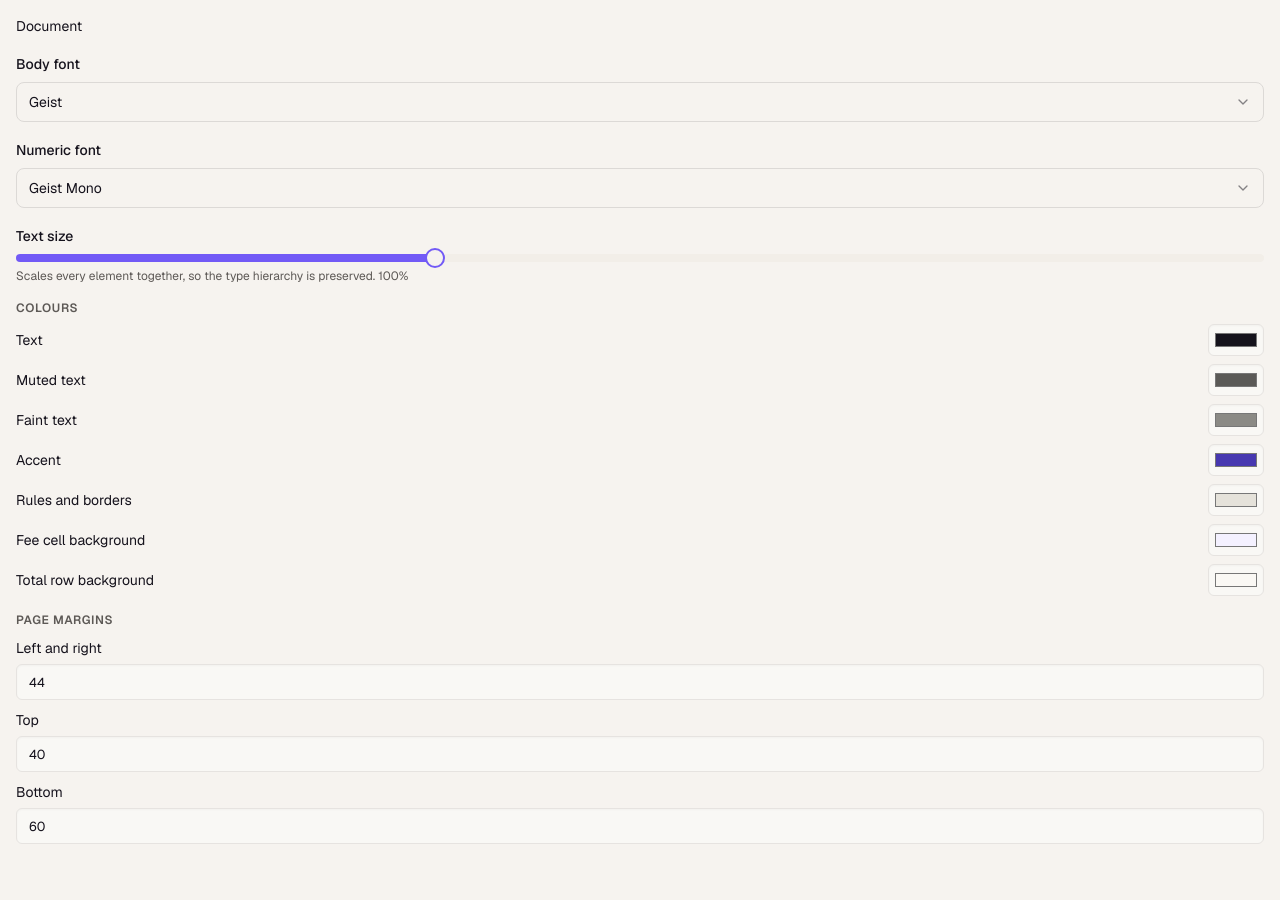
Test: TemplateInspector › only offers selectable fonts for the document numeric font
Step 1. Click the dropdown named "Numeric font" → (65, 188), box x1=16 y1=168 x2=1264 y2=208
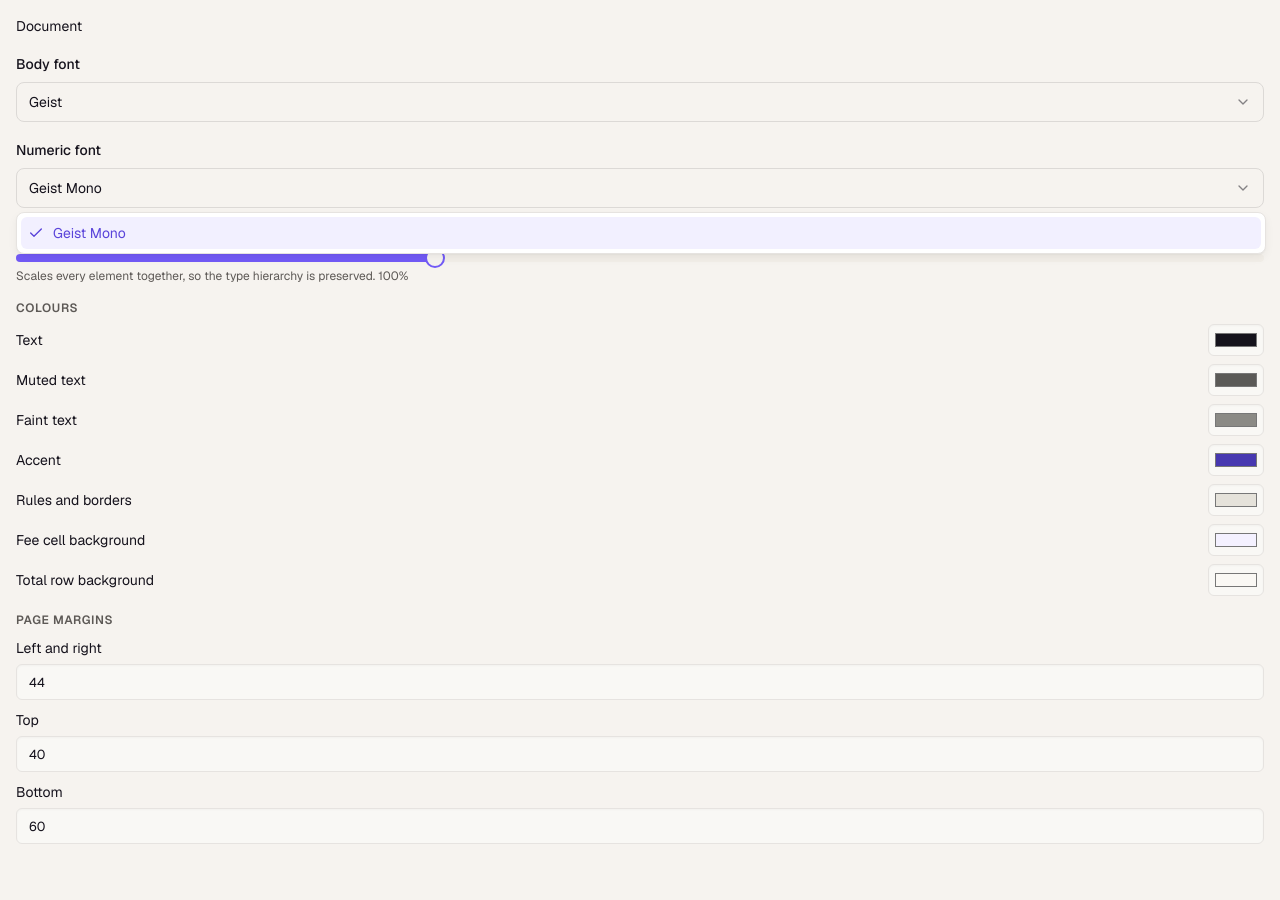
Now the options read "Geist Mono", in this order, box x1=21 y1=217 x2=1261 y2=249
